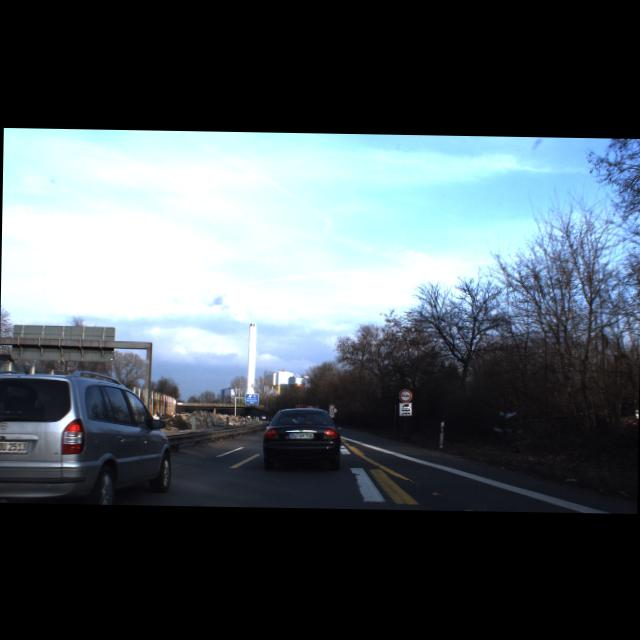prohibitory: (398, 388, 411, 401)
